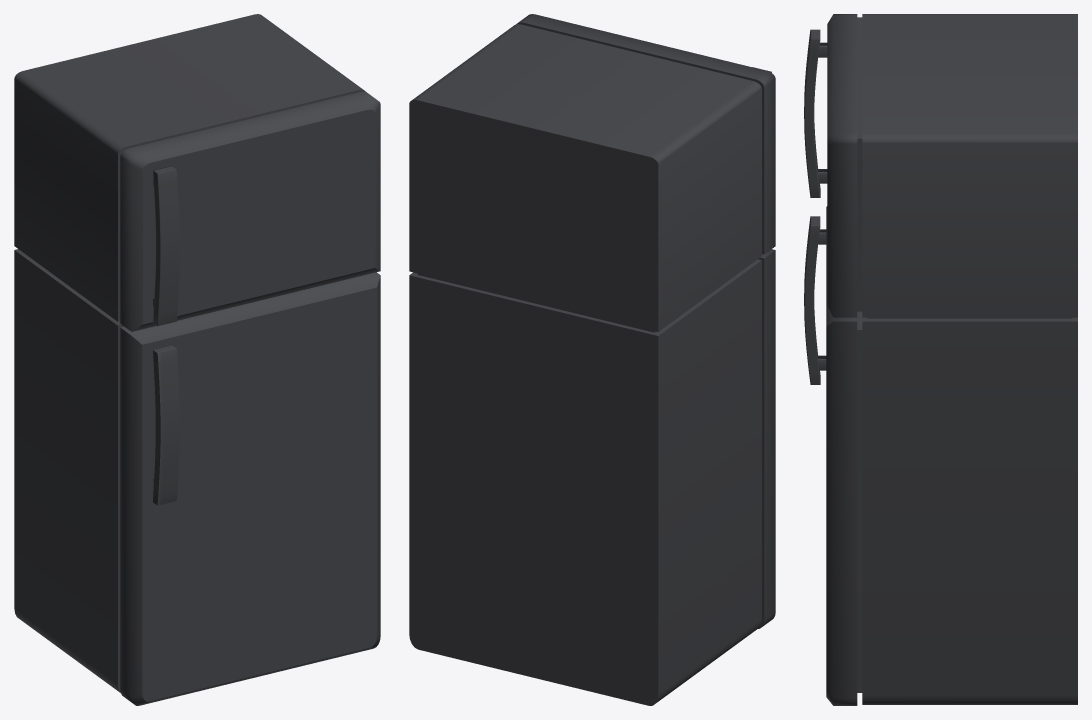
Rendered from kulkas.fbx.
3 renders of one model, left to right at view 1: azimuth 30°, elevation 25°; view 2: azimuth 150°, elevation 25°; view 3: azimuth 270°, elevation 25°, orthographic. The views are drawn at different scales.
Visible parts, largest first — view 1: Cube.002, Cube.003, Cube.001, Cube, Cube.005, Cube.004; view 2: Cube, Cube.001, Cube.003, Cube.002; view 3: Cube, Cube.001, Cube.002, Cube.003, Cube.004, Cube.005.
Boxes of the visible parts, x1,y1,x2,y2 form: Cube.002: [120, 272, 380, 705]; Cube.003: [120, 91, 380, 331]; Cube.001: [14, 14, 365, 321]; Cube: [14, 249, 123, 692]; Cube.005: [152, 345, 179, 505]; Cube.004: [152, 166, 179, 326]; Cube: [409, 259, 761, 705]; Cube.001: [409, 24, 761, 332]; Cube.003: [516, 14, 775, 254]; Cube.002: [758, 249, 775, 628]; Cube: [857, 311, 1077, 704]; Cube.001: [857, 14, 1077, 318]; Cube.002: [826, 206, 857, 705]; Cube.003: [827, 14, 857, 317]; Cube.004: [804, 29, 827, 197]; Cube.005: [804, 216, 826, 384].
Size of the model in its own units: 173 by 365 by 158.
Materials: 1 (1 with a texture image).
